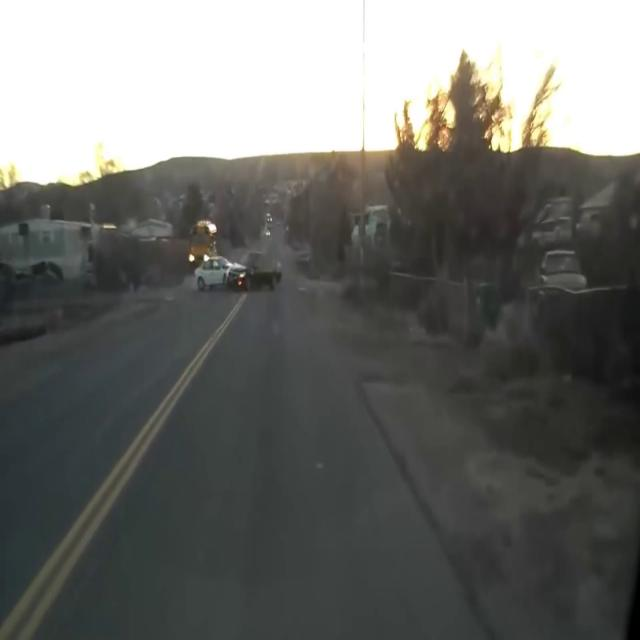accident: (190, 250, 287, 298)
